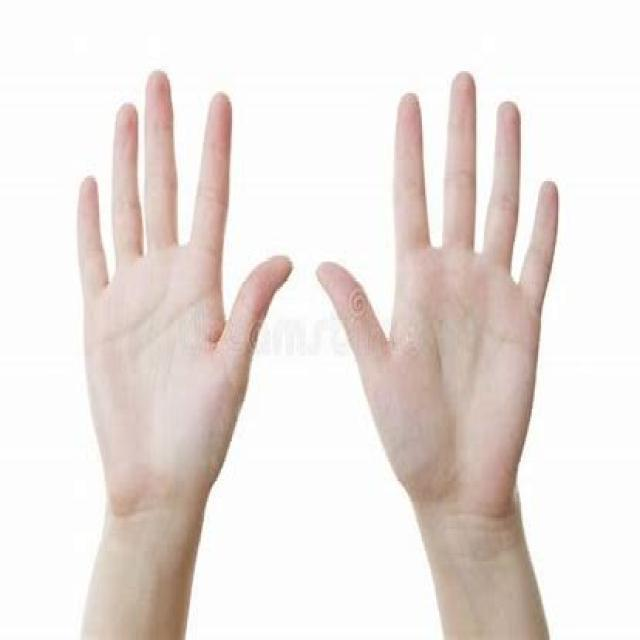not-gloved: (316, 57, 588, 541), (73, 71, 297, 536)
